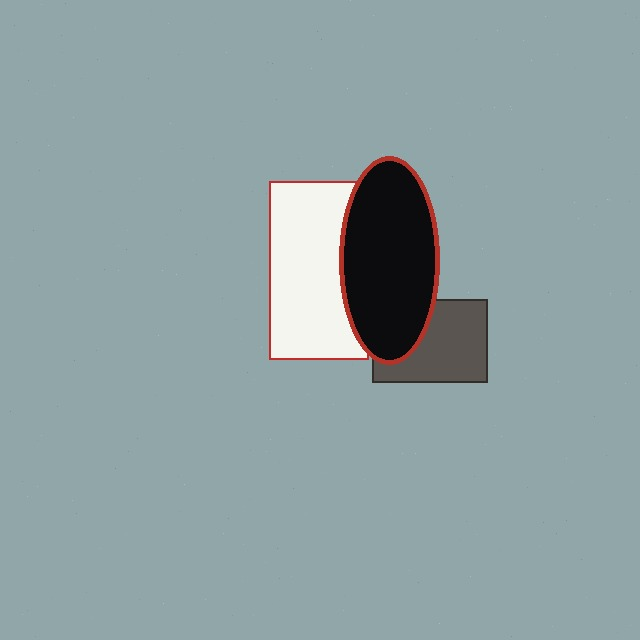book: (269, 181, 368, 359)
concrete_damage: (372, 299, 487, 382)
open_manhole: (339, 156, 439, 364)
